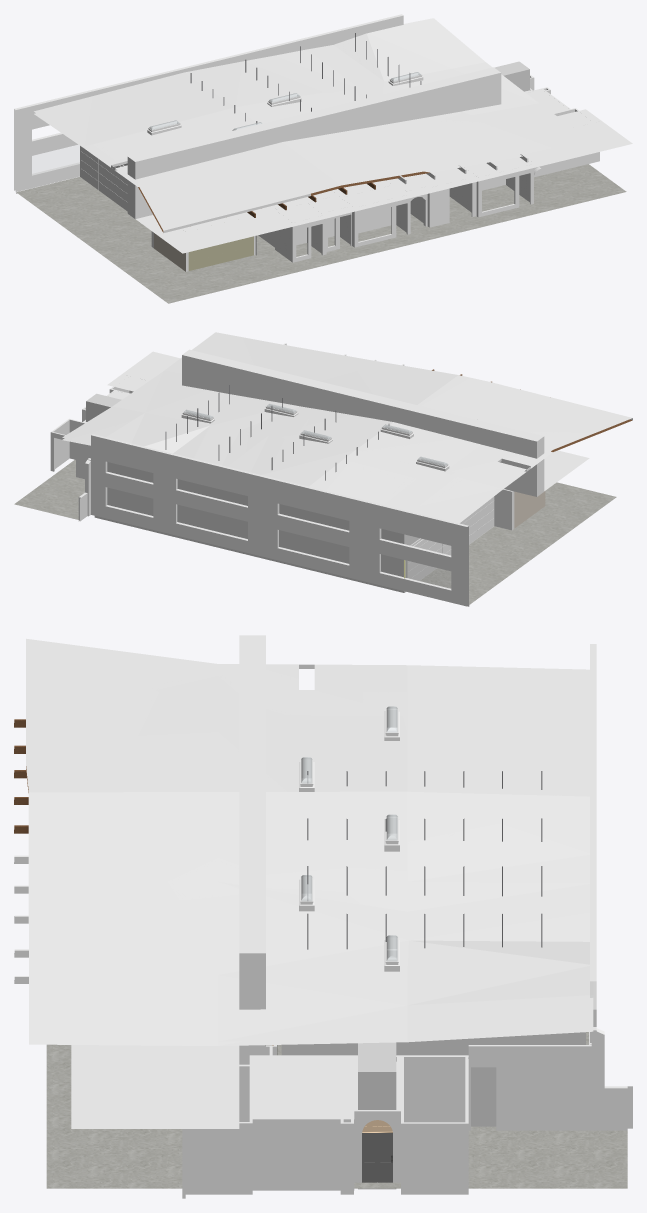
The model's file is large_hub_01.glb.
3 views of the same model, one above another, from view 1: azimuth 30°, elevation 25°; view 2: azimuth 150°, elevation 25°; view 3: azimuth 270°, elevation 25° (orthographic). The views are drawn at different scales.
Parts seen in each view (by area): view 1: ceiling, main_floor, Mesh1294 Group8 Model, main_wall, ceiling.001, windows_wall, available_moving_area.001, the_grid, ceiling.002, great_wall.008, great_wall.006, great_wall.004; view 2: ceiling, windows_wall, Mesh1294 Group8 Model, main_floor, available_moving_area, ceiling.001, main_wall, wall, the_grid, available_moving_area.001, great_wall.006, great_wall.008 (+1 smaller); view 3: ceiling, main_floor, main_wall, windows_wall, ceiling.001, wall, Mesh1294 Group8 Model, ceiling.002, available_moving_area, available_moving_area.001, discover_entrance.001, the_grid.
Boxes of the visible parts, left/top/right/bottom form: ceiling: left=34, top=18, right=591, bottom=233; main_floor: left=16, top=164, right=626, bottom=303; Mesh1294 Group8 Model: left=127, top=67, right=501, bottom=218; main_wall: left=151, top=87, right=599, bottom=271; ceiling.001: left=135, top=109, right=632, bottom=253; windows_wall: left=14, top=14, right=403, bottom=191; available_moving_area.001: left=494, top=61, right=529, bottom=91; the_grid: left=190, top=33, right=421, bottom=124; ceiling.002: left=526, top=89, right=568, bottom=113; great_wall.008: left=81, top=168, right=127, bottom=211; great_wall.006: left=81, top=160, right=127, bottom=202; great_wall.004: left=81, top=151, right=127, bottom=193; ceiling: left=62, top=332, right=632, bottom=523; windows_wall: left=78, top=434, right=468, bottom=606; Mesh1294 Group8 Model: left=182, top=349, right=544, bottom=496; main_floor: left=14, top=460, right=616, bottom=606; available_moving_area: left=94, top=462, right=419, bottom=592; ceiling.001: left=107, top=351, right=589, bottom=490; main_wall: left=82, top=374, right=545, bottom=530; wall: left=50, top=418, right=90, bottom=479; the_grid: left=165, top=385, right=389, bottom=480; available_moving_area.001: left=86, top=393, right=121, bottom=421; great_wall.006: left=408, top=509, right=494, bottom=578; great_wall.008: left=411, top=518, right=494, bottom=580; ceiling: left=26, top=638, right=593, bottom=1045; main_floor: left=46, top=1032, right=627, bottom=1188; main_wall: left=85, top=1045, right=357, bottom=1198; windows_wall: left=468, top=644, right=632, bottom=1130; ceiling.001: left=71, top=1045, right=239, bottom=1128; wall: left=354, top=1055, right=468, bottom=1194; Mesh1294 Group8 Model: left=239, top=635, right=265, bottom=1055; ceiling.002: left=252, top=1056, right=350, bottom=1117; available_moving_area: left=281, top=778, right=585, bottom=1126; available_moving_area.001: left=358, top=1042, right=396, bottom=1189; discover_entrance.001: left=362, top=1133, right=392, bottom=1182; the_grid: left=307, top=771, right=542, bottom=949.
Size of the model in its own units: 1533 by 310 by 957.
64 materials, 15 textured.
